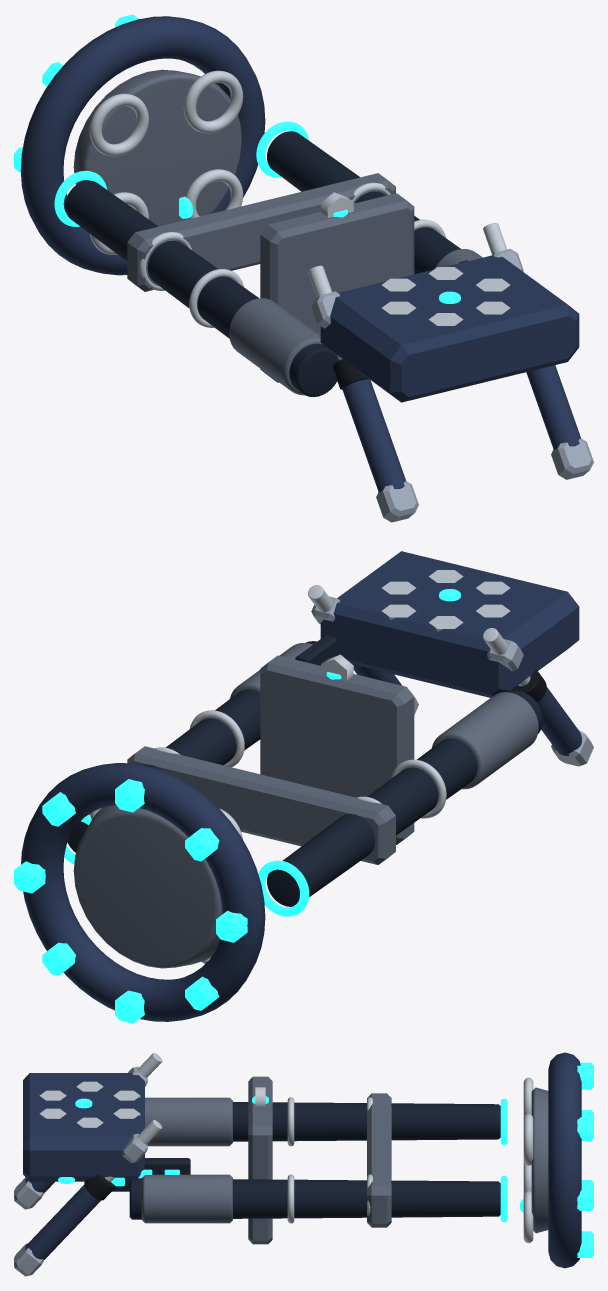
File: tower_skywatch_damage_s8.glb
3 renders of one model, top to bottom at view 1: azimuth 30°, elevation 25°; view 2: azimuth 150°, elevation 25°; view 3: azimuth 270°, elevation 25°, orthographic. The views are drawn at different scales.
Parts seen in each view (by area): view 1: skywatch_housing_armour, skywatch_fuse_ring, skywatch_fuse_collar, skywatch_barrel_clamp_b, skywatch_barrel_b_r, skywatch_barrel_b_clamp, skywatch_barrel_b_l, skywatch_barrel_b_jacket_r, skywatch_damper_r_body, skywatch_damper_l_body, skywatch_armour_bolts, skywatch_crown3 (+7 smaller); view 2: skywatch_fuse_ring, skywatch_housing_armour, skywatch_fuse_collar, skywatch_barrel_clamp_b, skywatch_barrel_b_clamp, skywatch_barrel_b_r, skywatch_barrel_b_jacket_r, skywatch_barrel_b_l, skywatch_armour_bolts, skywatch_damper_r_body, skywatch_barrel_b_crown0.3, skywatch_barrel_b_ring_r0 (+12 smaller); view 3: skywatch_housing_armour, skywatch_barrel_b_l, skywatch_barrel_b_r, skywatch_fuse_ring, skywatch_barrel_b_jacket_l, skywatch_barrel_b_jacket_r, skywatch_barrel_b_clamp, skywatch_barrel_clamp_b, skywatch_fuse_collar, skywatch_damper_l_body, skywatch_armour_bolts, skywatch_ammo_indicator (+17 smaller).
Boxes of the visible parts, x1,y1,x2,y2 form: skywatch_housing_armour: (320, 255, 579, 402); skywatch_fuse_ring: (20, 16, 265, 275); skywatch_fuse_collar: (73, 69, 242, 226); skywatch_barrel_clamp_b: (260, 193, 414, 382); skywatch_barrel_b_r: (65, 180, 339, 397); skywatch_barrel_b_clamp: (127, 173, 395, 291); skywatch_barrel_b_l: (267, 131, 460, 274); skywatch_barrel_b_jacket_r: (229, 298, 322, 395); skywatch_damper_r_body: (342, 379, 405, 492); skywatch_damper_l_body: (526, 365, 580, 450); skywatch_armour_bolts: (382, 267, 510, 325); skywatch_crown3: (89, 93, 148, 156); skywatch_fuse_ring: (21, 763, 265, 1021); skywatch_housing_armour: (320, 551, 579, 697); skywatch_fuse_collar: (73, 805, 222, 968); skywatch_barrel_clamp_b: (260, 655, 414, 844); skywatch_barrel_b_clamp: (127, 746, 395, 864); skywatch_barrel_b_r: (267, 690, 542, 906); skywatch_barrel_b_jacket_r: (432, 692, 538, 789); skywatch_barrel_b_l: (67, 641, 316, 852); skywatch_armour_bolts: (382, 570, 510, 631); skywatch_damper_r_body: (537, 687, 581, 755); skywatch_barrel_b_crown0.3: (258, 860, 309, 916); skywatch_barrel_b_ring_r0: (391, 759, 446, 818); skywatch_housing_armour: (23, 1073, 144, 1181); skywatch_barrel_b_l: (129, 1178, 500, 1219); skywatch_barrel_b_r: (233, 1102, 500, 1141); skywatch_fuse_ring: (548, 1052, 581, 1268); skywatch_barrel_b_jacket_l: (141, 1174, 232, 1223); skywatch_barrel_b_jacket_r: (145, 1097, 232, 1146); skywatch_barrel_b_clamp: (367, 1093, 391, 1227); skywatch_barrel_clamp_b: (248, 1076, 272, 1244); skywatch_fuse_collar: (531, 1087, 548, 1233); skywatch_damper_l_body: (25, 1184, 100, 1259); skywatch_armour_bolts: (39, 1081, 140, 1127); skywatch_ammo_indicator: (112, 1158, 190, 1191).
Size of the model in its own units: 0.7688 by 0.71 by 1.9.
